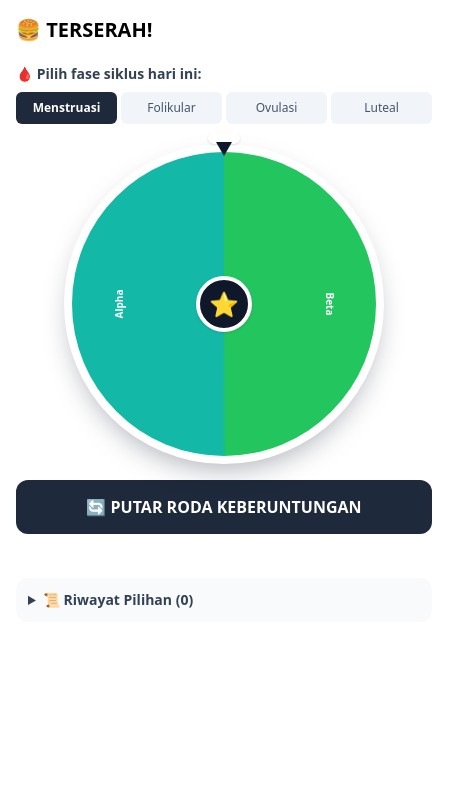
it: App › spins, shows a result, and records history on maps commit
Click the button "🔄 PUTAR RODA KEBERUNTUNGAN". click: {"x": 224, "y": 507}
box: [16,480,432,534]
Wait 4000 ms
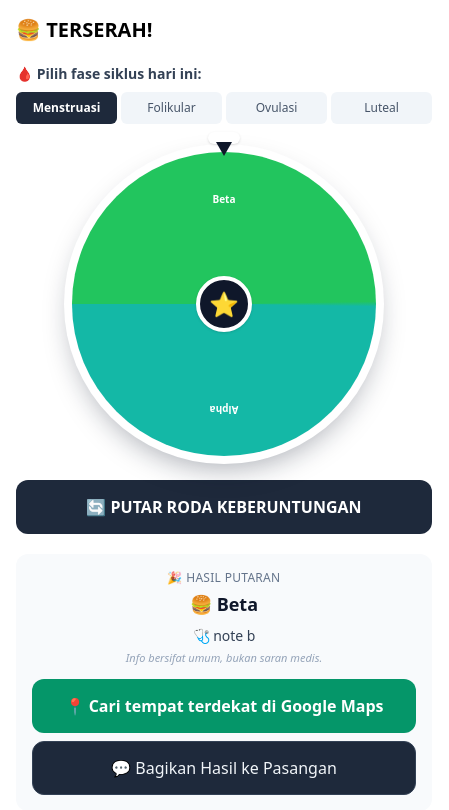
Click the button "📍 Cari tempat terdekat di Google Maps". click: {"x": 224, "y": 706}
box: [32,678,416,732]
(page scrolled)
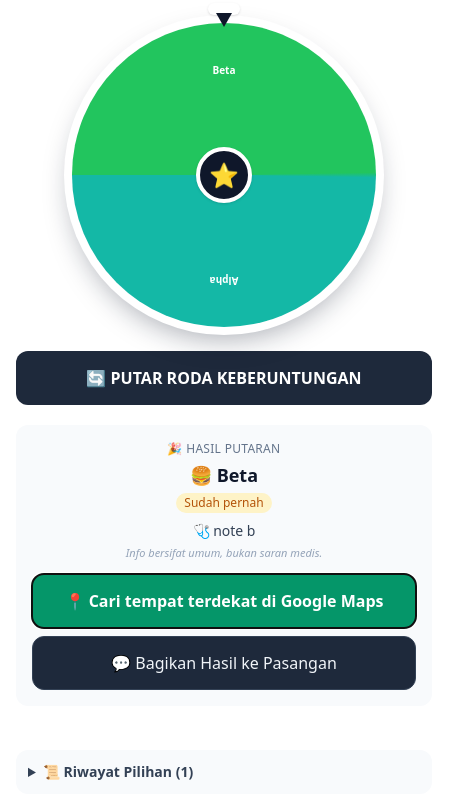
Result: the heading "📜 Riwayat Pilihan (1)" is shown at [43,762,193,780]
